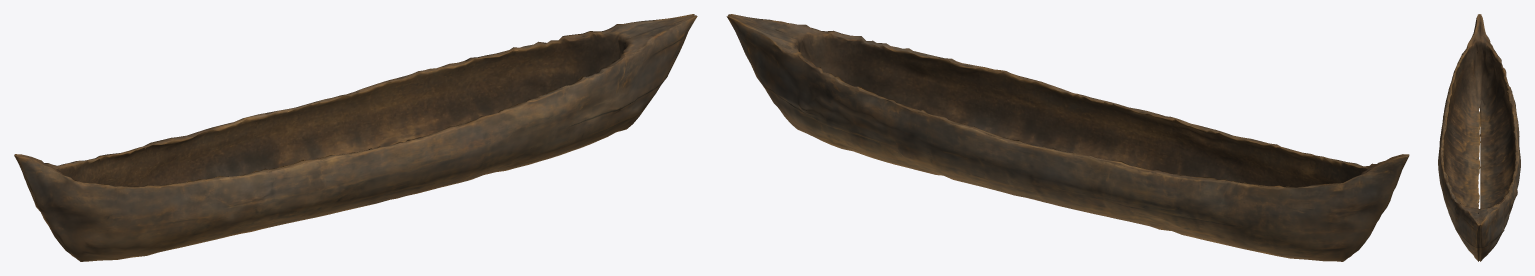
File: Meshy_AI_dugout_canoe_20261111_texture.obj
3 renders of one model, left to right at view 1: azimuth 30°, elevation 25°; view 2: azimuth 150°, elevation 25°; view 3: azimuth 270°, elevation 25°, orthographic. The views are drawn at different scales.
Parts seen in each view (by area): view 1: Meshy_AI_dugout_canoe_20261111_texture; view 2: Meshy_AI_dugout_canoe_20261111_texture; view 3: Meshy_AI_dugout_canoe_20261111_texture.
Boxes of the visible parts, x1=… form: Meshy_AI_dugout_canoe_20261111_texture: x1=14, y1=14, x2=697, y2=261; Meshy_AI_dugout_canoe_20261111_texture: x1=726, y1=14, x2=1409, y2=261; Meshy_AI_dugout_canoe_20261111_texture: x1=1438, y1=14, x2=1520, y2=261.
Bounding box in the file's own units: 0.9541 × 0.165 × 0.1704.
1 material, 1 textured.
